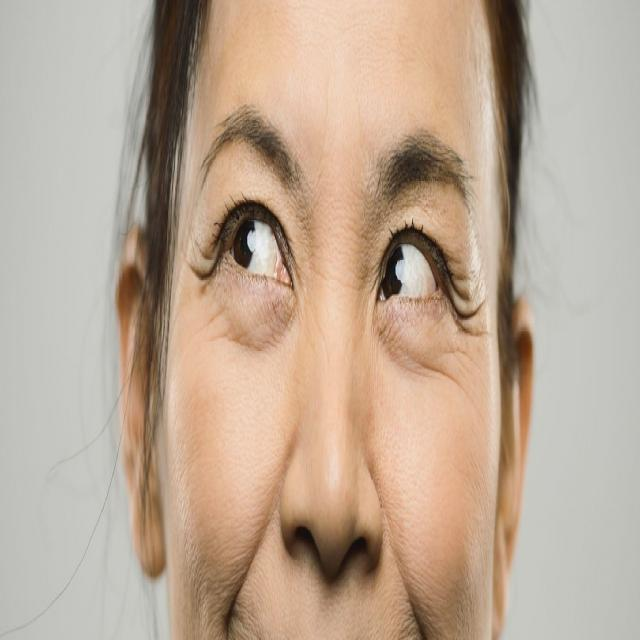Dry-Skin: (384, 292, 511, 450), (382, 504, 495, 640), (197, 454, 276, 632), (304, 125, 369, 323), (192, 207, 235, 376)
